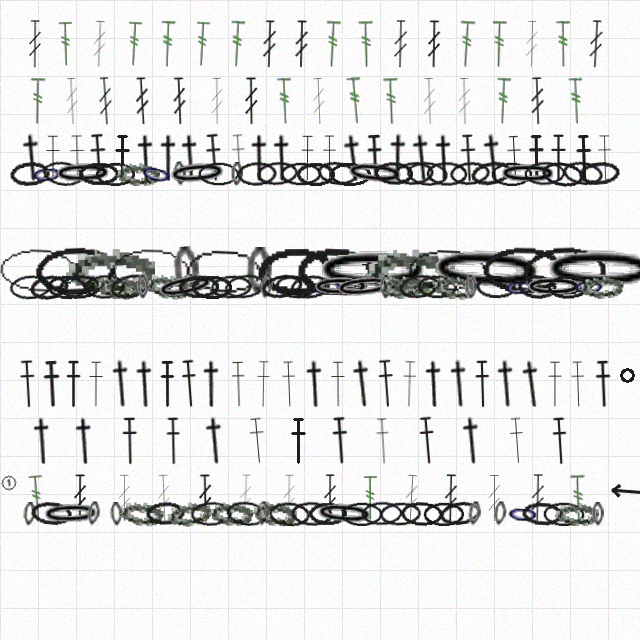chain: (426, 244, 548, 298), (313, 247, 433, 295), (541, 246, 640, 295), (365, 246, 455, 296), (66, 246, 155, 295), (405, 245, 489, 296), (522, 245, 606, 296), (34, 245, 116, 296), (182, 245, 264, 296), (482, 246, 565, 295), (296, 246, 377, 296), (0, 245, 79, 296), (109, 246, 191, 295), (257, 247, 337, 295), (154, 269, 217, 304), (333, 272, 395, 302), (344, 159, 406, 188), (167, 159, 228, 188), (314, 500, 375, 528), (41, 501, 101, 527), (165, 498, 213, 530), (53, 161, 113, 186), (108, 270, 153, 303), (498, 162, 558, 186), (311, 275, 371, 299), (524, 275, 584, 299), (172, 246, 201, 295), (469, 158, 513, 189), (260, 271, 304, 302), (540, 159, 585, 189), (145, 272, 191, 301), (28, 272, 71, 302), (41, 159, 85, 188), (561, 159, 605, 188), (223, 272, 267, 301), (225, 499, 269, 528), (438, 499, 482, 528), (246, 247, 272, 295), (398, 272, 441, 301), (316, 159, 358, 188), (379, 273, 424, 300), (579, 273, 624, 300), (119, 500, 164, 527), (252, 500, 297, 527), (274, 273, 317, 301), (289, 273, 331, 301), (96, 274, 141, 300), (432, 274, 477, 300), (256, 160, 299, 187), (406, 160, 448, 187), (449, 160, 491, 187), (578, 160, 620, 187), (30, 500, 72, 527), (210, 274, 253, 300), (268, 501, 311, 527), (379, 501, 422, 527), (138, 159, 175, 189), (9, 160, 50, 187), (393, 160, 434, 187), (517, 273, 558, 300), (209, 501, 253, 526), (9, 274, 51, 300), (46, 274, 88, 300), (475, 274, 517, 300), (521, 501, 563, 527), (58, 274, 101, 299), (190, 501, 233, 526), (400, 501, 443, 526), (116, 162, 160, 186), (555, 502, 599, 526), (426, 161, 468, 186), (547, 274, 589, 299), (291, 501, 333, 526), (236, 161, 277, 186), (524, 161, 565, 186), (84, 274, 125, 299), (145, 501, 186, 526), (361, 501, 402, 526), (280, 162, 322, 186), (329, 162, 371, 186), (341, 502, 383, 526), (543, 502, 585, 526), (374, 161, 414, 186), (78, 162, 119, 186), (198, 162, 239, 186), (491, 162, 532, 186), (178, 275, 219, 299), (191, 275, 232, 299), (423, 502, 464, 526), (95, 162, 135, 186), (296, 162, 336, 186), (417, 275, 457, 299), (308, 502, 348, 526), (310, 274, 345, 300), (30, 161, 64, 187), (503, 274, 537, 300), (506, 501, 540, 527), (572, 274, 606, 299), (259, 274, 274, 299), (86, 501, 101, 526), (467, 501, 482, 526), (173, 161, 187, 186), (256, 501, 270, 526), (493, 501, 507, 526), (23, 502, 36, 526), (110, 502, 123, 526), (231, 162, 243, 186), (137, 275, 149, 299), (380, 275, 392, 299), (465, 275, 477, 299), (592, 502, 604, 526)
half_double: (516, 359, 548, 409), (338, 133, 369, 183), (347, 359, 378, 408), (17, 133, 47, 182), (383, 133, 413, 182), (407, 133, 437, 182), (478, 133, 508, 182), (200, 416, 230, 465), (457, 416, 487, 465), (107, 359, 136, 408), (445, 359, 474, 408), (492, 359, 521, 408), (154, 134, 183, 182), (176, 134, 205, 182), (245, 134, 274, 182), (197, 360, 226, 408), (28, 417, 57, 465), (70, 417, 99, 465), (132, 134, 160, 182), (268, 134, 296, 182), (430, 134, 458, 182), (131, 360, 159, 408), (301, 360, 329, 408), (420, 360, 448, 408), (246, 416, 269, 465), (87, 133, 109, 182), (203, 133, 225, 182), (375, 359, 397, 408), (329, 416, 351, 465), (416, 416, 438, 465), (228, 133, 249, 182), (179, 359, 200, 408), (506, 416, 527, 465), (364, 134, 385, 182), (458, 134, 479, 182), (17, 360, 38, 408), (41, 360, 62, 408), (67, 134, 87, 182), (504, 134, 524, 182), (574, 134, 594, 182), (228, 360, 248, 408), (279, 360, 299, 408), (568, 360, 588, 408), (593, 360, 613, 408), (373, 417, 393, 465), (550, 417, 570, 465), (113, 134, 132, 182), (320, 134, 339, 182), (549, 134, 568, 182), (595, 134, 614, 182), (64, 360, 83, 408), (400, 360, 419, 408), (473, 360, 492, 408), (545, 360, 564, 408), (120, 417, 139, 465), (289, 417, 308, 465), (44, 134, 62, 182), (298, 134, 316, 182), (527, 134, 545, 182), (87, 360, 105, 408), (158, 360, 176, 408), (254, 360, 272, 408), (329, 360, 347, 408), (164, 417, 182, 465)
noise: (608, 483, 640, 500), (617, 365, 637, 385), (0, 473, 18, 492)
treble: (345, 76, 365, 125), (27, 473, 47, 522), (323, 20, 343, 68), (457, 20, 477, 68), (125, 20, 144, 68), (193, 20, 212, 68), (357, 20, 376, 68), (490, 20, 509, 68), (96, 77, 115, 125), (382, 77, 401, 125), (569, 474, 588, 522), (57, 20, 75, 68), (228, 20, 246, 68), (587, 20, 605, 68), (29, 77, 47, 125), (63, 77, 81, 125), (133, 77, 151, 125), (494, 77, 512, 125), (567, 77, 585, 125), (402, 474, 420, 522), (91, 20, 108, 68), (159, 20, 176, 68), (261, 20, 278, 68), (293, 20, 310, 68), (392, 20, 409, 68), (523, 20, 540, 68), (171, 77, 188, 125), (276, 77, 293, 125), (310, 77, 327, 125), (421, 77, 438, 125), (456, 77, 473, 125), (529, 77, 546, 125), (155, 474, 172, 522), (237, 474, 254, 522), (362, 474, 379, 522), (442, 474, 459, 522), (529, 474, 546, 522), (27, 20, 43, 68), (426, 20, 442, 68), (555, 20, 571, 68), (209, 77, 225, 125), (243, 77, 259, 125), (72, 474, 88, 522), (116, 474, 132, 522), (197, 474, 213, 522), (281, 474, 297, 522), (322, 474, 338, 522), (486, 474, 502, 522)
